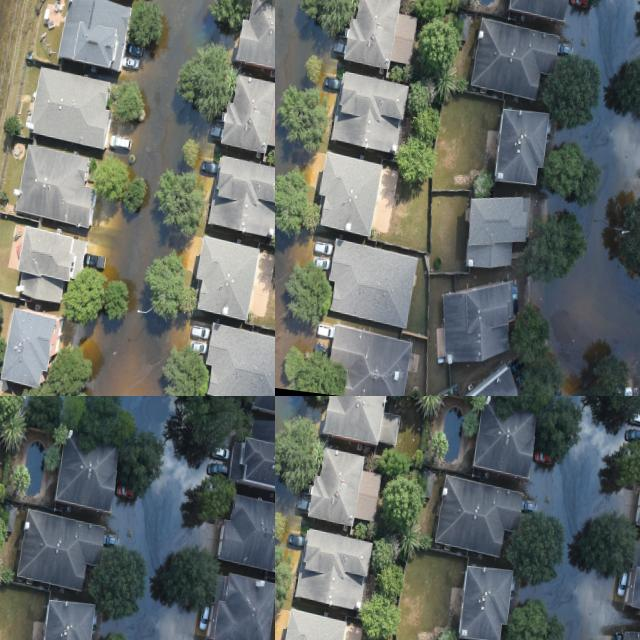fire: (489, 406, 640, 640)
